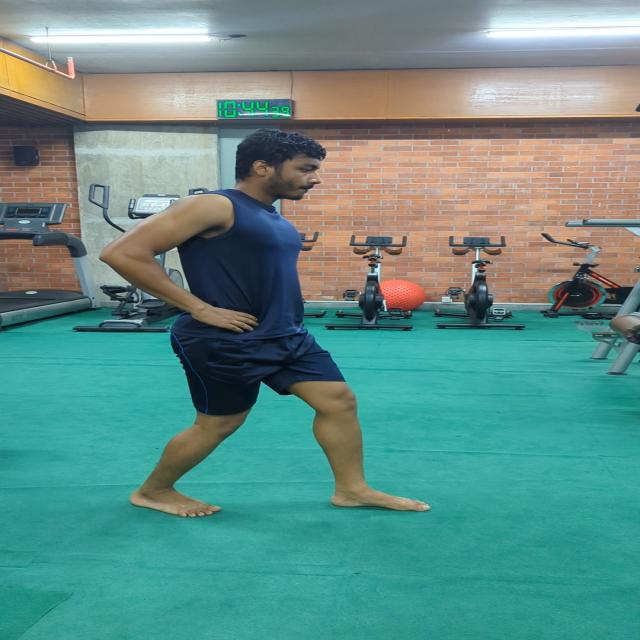Normal_Lunges: (87, 127, 437, 518)
